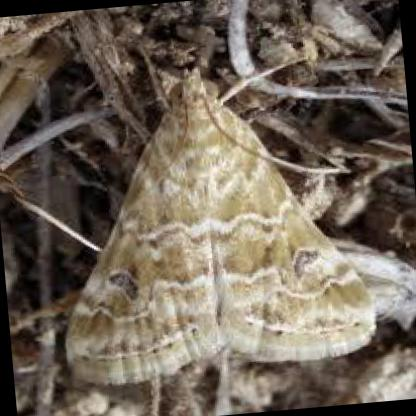Hellula undalis: (57, 36, 385, 390)
